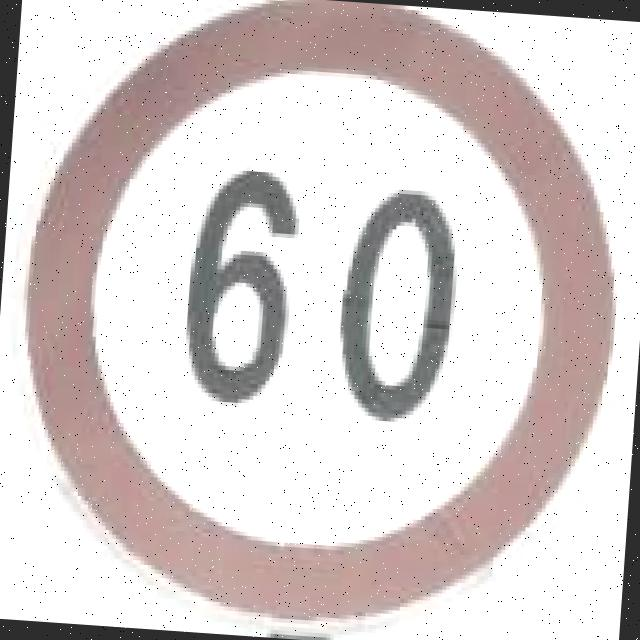Ograniczenie predkosci do 60: (3, 0, 624, 631)
